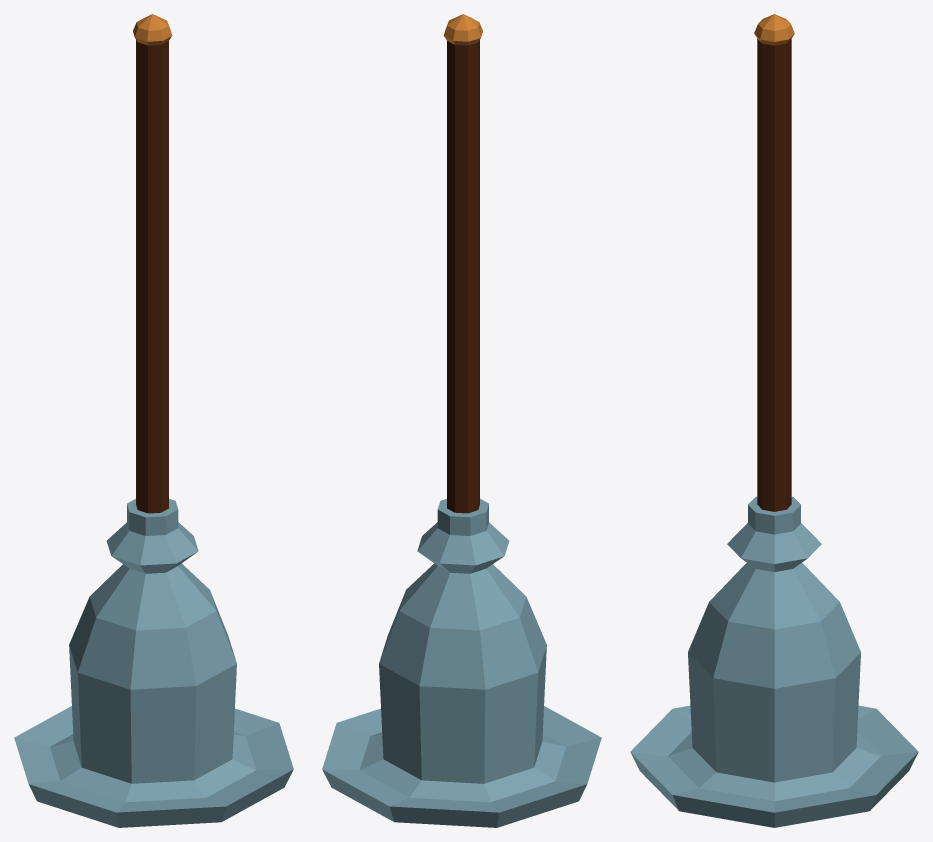
The model's file is mop.glb.
3 views of the same model, side by side, from view 1: azimuth 30°, elevation 25°; view 2: azimuth 150°, elevation 25°; view 3: azimuth 270°, elevation 25° (orthographic).
Visible parts, largest first — view 1: Mop; view 2: Mop; view 3: Mop.
Part boxes in pixels (box(x1,y1,x2,y2)): Mop: box(14, 14, 293, 827); Mop: box(322, 14, 601, 827); Mop: box(630, 14, 918, 827).
Bounding box in the file's own units: 0.4054 × 1.18 × 0.4054.
